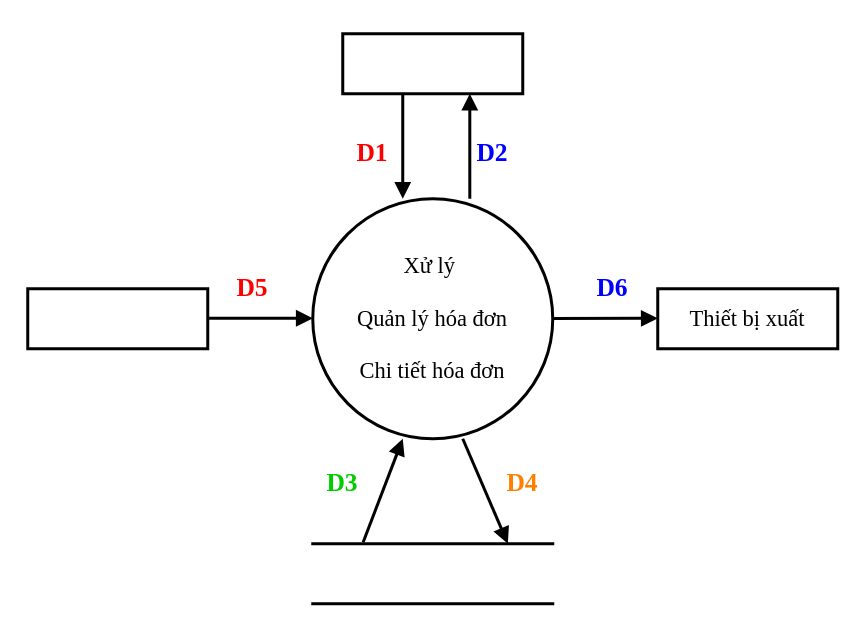
Image size: 864x630. Some labels were removed from this diagram. The shapes that lost their labels are listed below. From the top down, each one's centre as x and y in pixels, then its label:
At pixel 432 63: "Nhân viên".
At pixel 117 318: "Thiết bị nhập".
